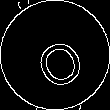O_NW: (25, 23, 85, 87)
